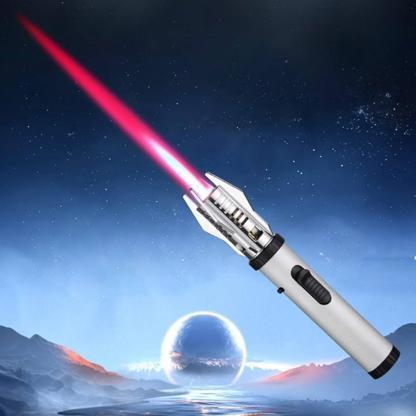sith_lightsaber: (13, 9, 406, 383)
